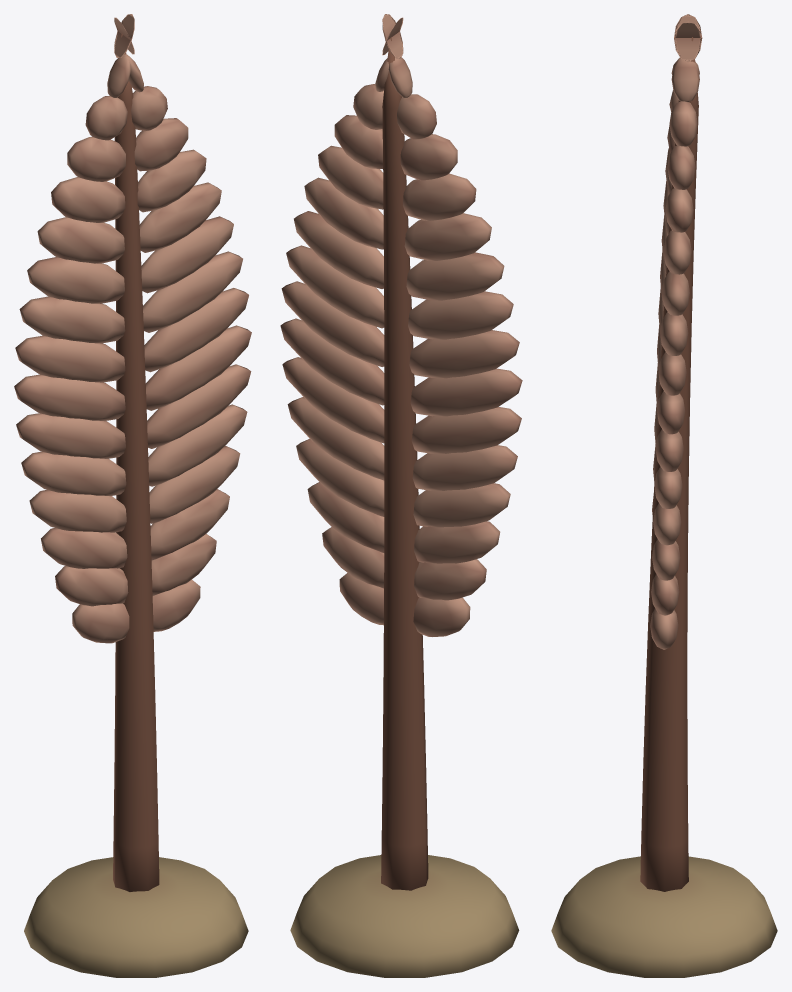
File: Arborea.fbx
3 renders of one model, left to right at view 1: azimuth 30°, elevation 25°; view 2: azimuth 150°, elevation 25°; view 3: azimuth 270°, elevation 25°, orthographic.
Parts seen in each view (by area): view 1: Arborea; view 2: Arborea; view 3: Arborea.
Part boxes in pixels (left/top/right/bottom): Arborea: left=14, top=14, right=251, bottom=977; Arborea: left=280, top=14, right=522, bottom=977; Arborea: left=551, top=14, right=777, bottom=977.
Bounding box in the file's own units: 0.3834 × 1.43 × 0.3196.
